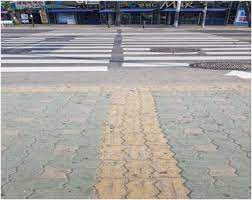guide_blocks: (96, 95, 190, 198), (2, 87, 247, 93)
